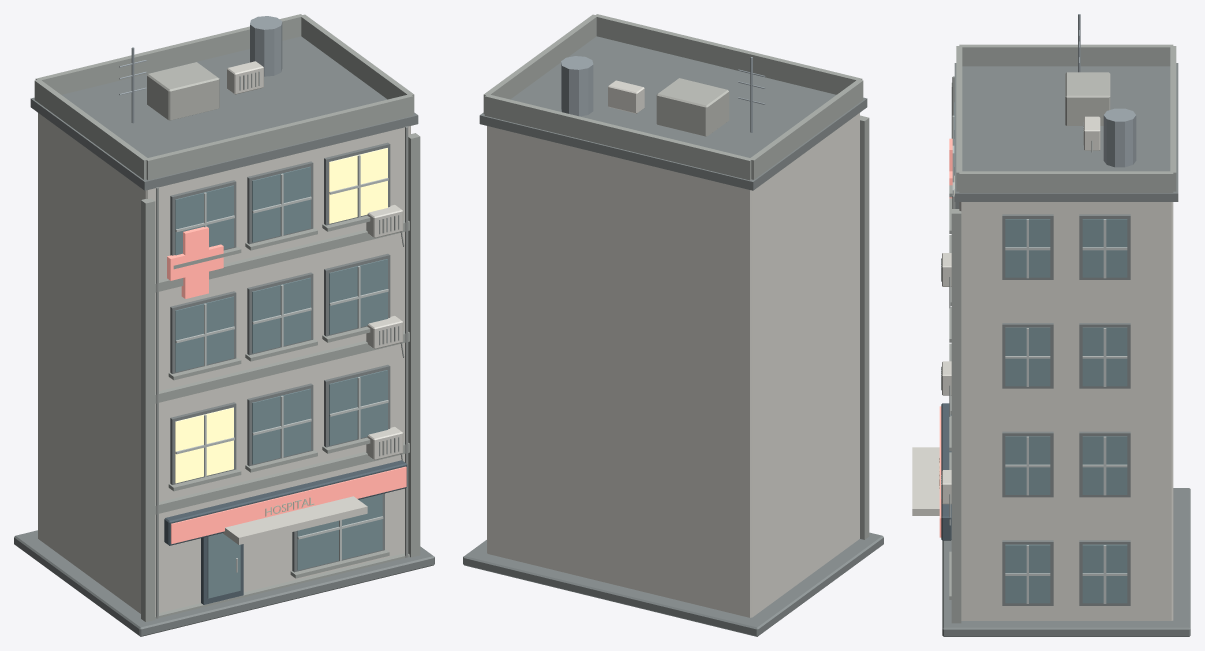
The model's file is SM_ENV_Building_02_Clinic.glb.
3 renders of one model, left to right at view 1: azimuth 30°, elevation 25°; view 2: azimuth 150°, elevation 25°; view 3: azimuth 270°, elevation 25°, orthographic. The views are drawn at different scales.
Visible parts, largest first — view 1: SM_ENV_Building_02_Clinic; view 2: SM_ENV_Building_02_Clinic; view 3: SM_ENV_Building_02_Clinic.
Part boxes in pixels (x1,y1,x2,y2): SM_ENV_Building_02_Clinic: (14, 14, 434, 636); SM_ENV_Building_02_Clinic: (463, 14, 883, 636); SM_ENV_Building_02_Clinic: (912, 14, 1190, 636).
Size of the model in its own units: 7.8 by 13.2 by 6.5.
